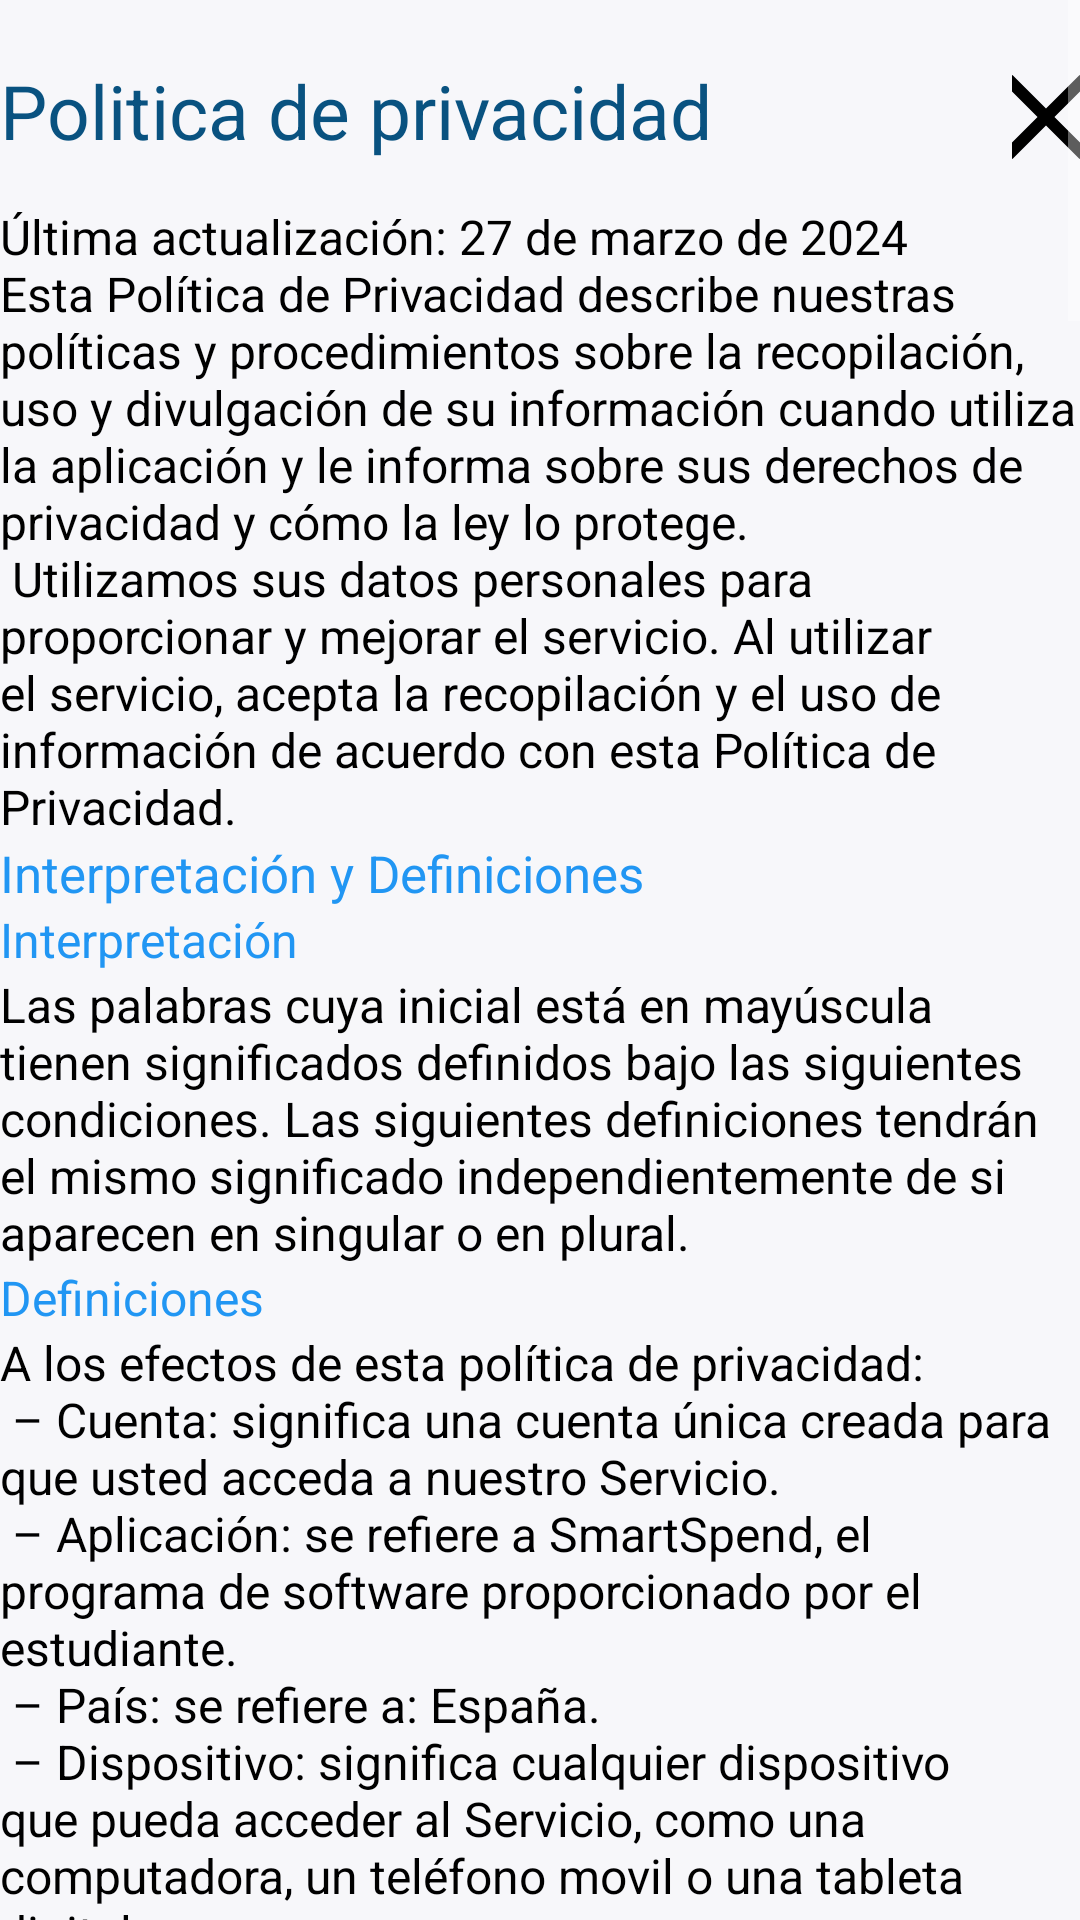

Icons on this 1080px x 1920px Android screen, each with its box as (x1, y1, x2, y2):
close: (1012, 75, 1080, 159)
